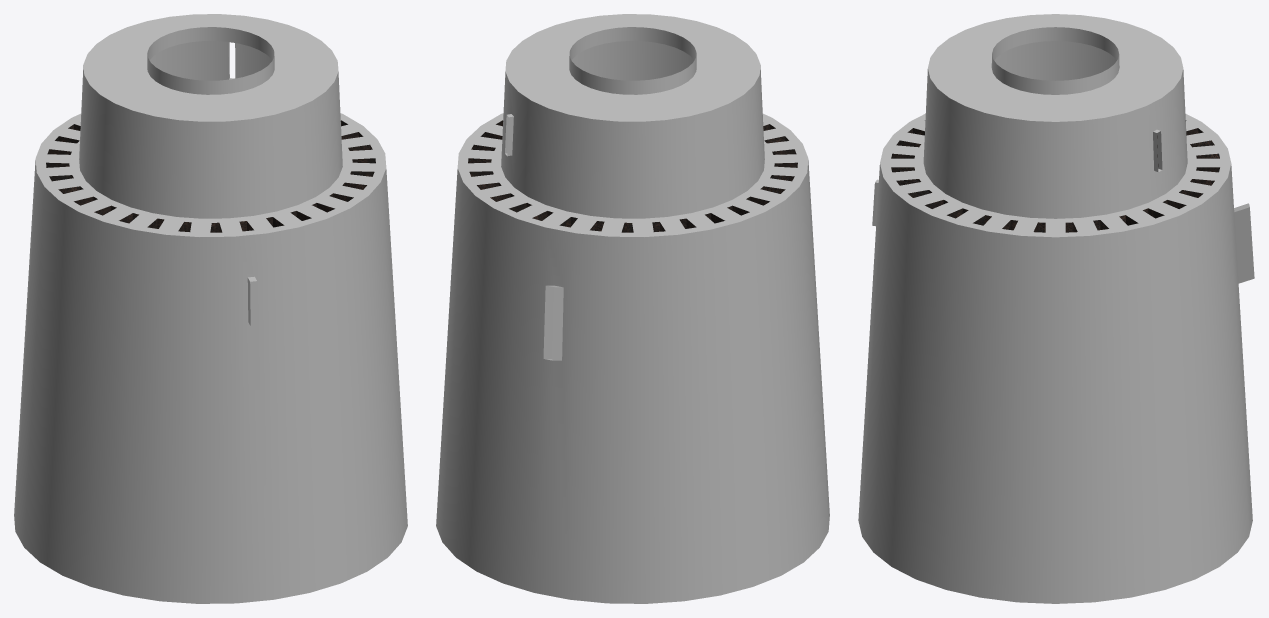
The model's file is Backdrop Tower.fbx.
3 views of the same model, side by side, from view 1: azimuth 30°, elevation 25°; view 2: azimuth 150°, elevation 25°; view 3: azimuth 270°, elevation 25° (orthographic).
Visible parts, largest first — view 1: Cylinder; view 2: Cylinder; view 3: Cylinder.
Part boxes in pixels (bbox=[...]): Cylinder: bbox=[14, 14, 407, 603]; Cylinder: bbox=[436, 14, 829, 603]; Cylinder: bbox=[858, 14, 1254, 603].
Size of the model in its own units: 2380 by 3106 by 2390.
